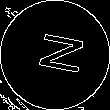N_W: (26, 30, 84, 80)
